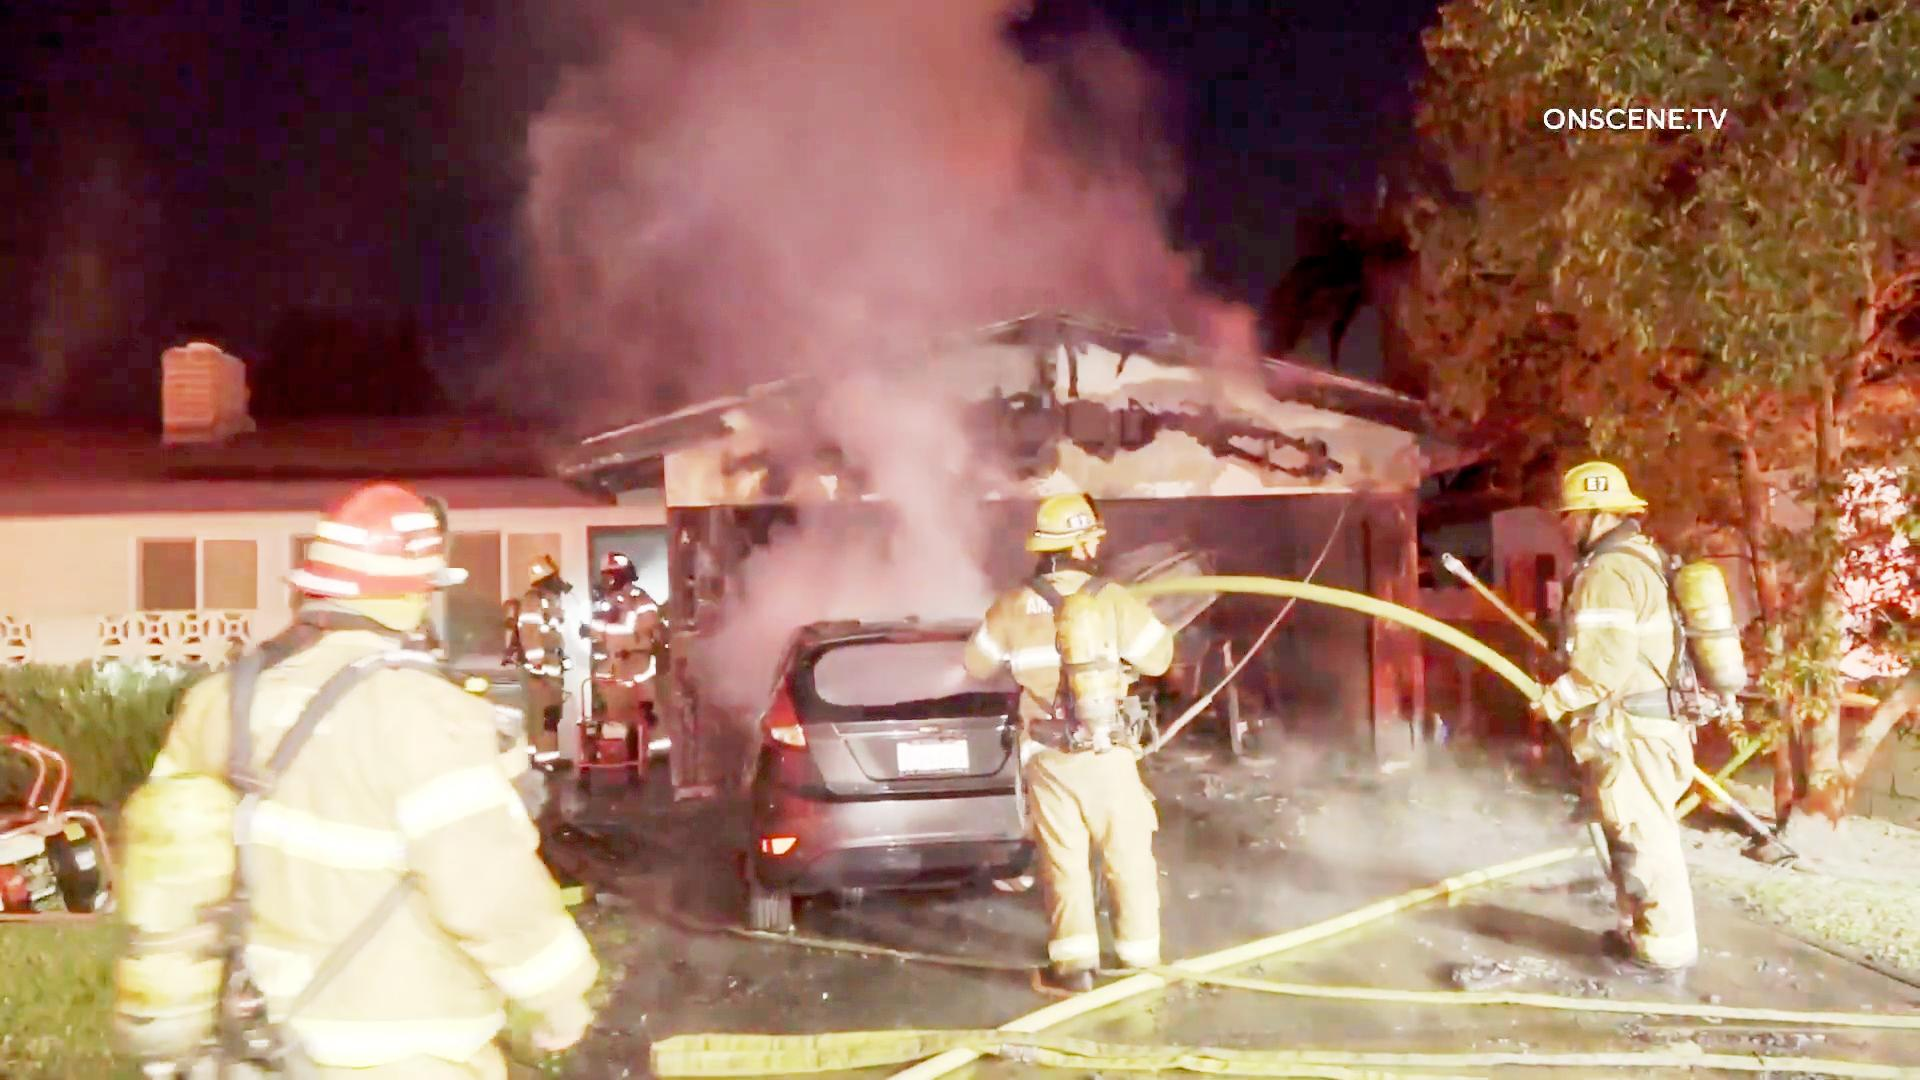smoke: (738, 518, 955, 616)
